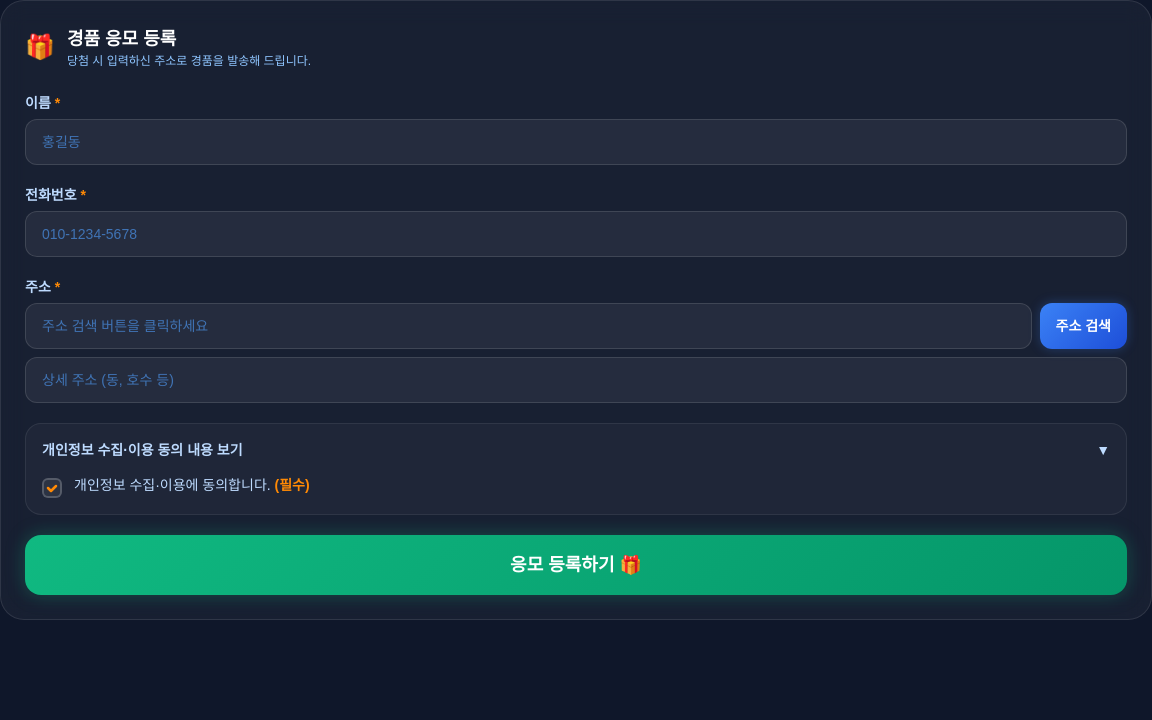
Test: ParticipantForm › 개인정보 안내 토글 버튼 클릭 시 내용이 표시된다
Expected: the text "수집 항목" is not shown
Click the button "개인정보 수집·이용 동의 내용 보기 ▼": (142, 450) [42,440,1110,460]
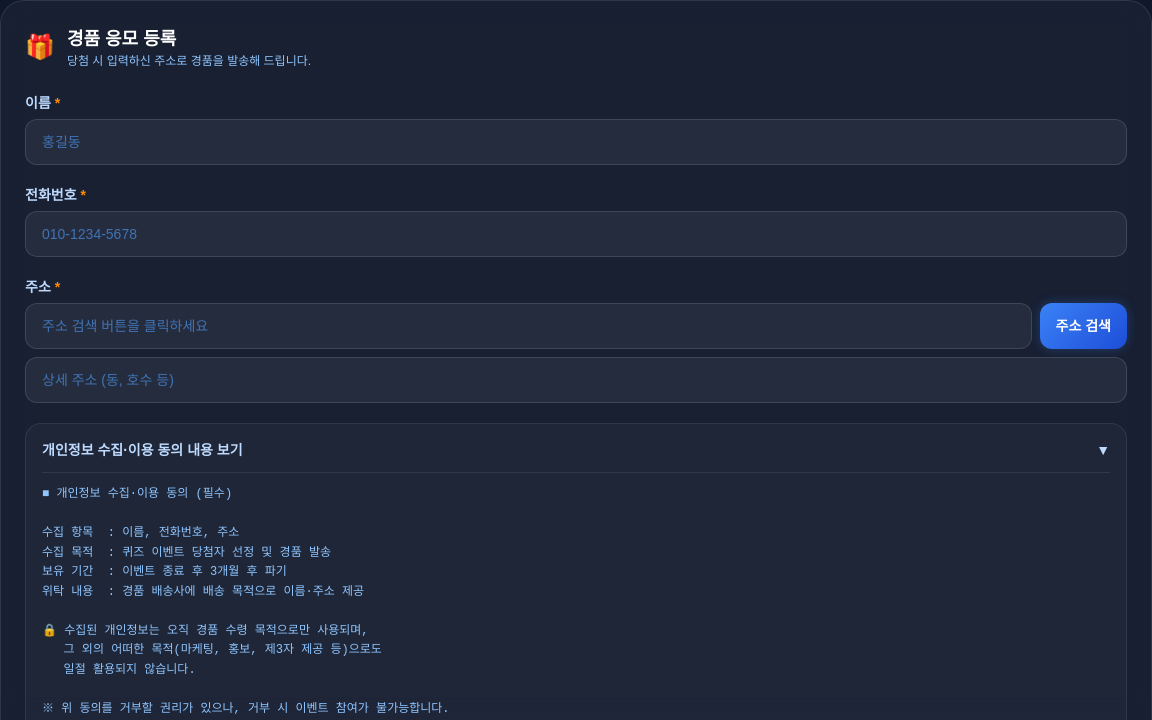
Expected: the text "수집 항목" is shown, [42,487,450,716]
